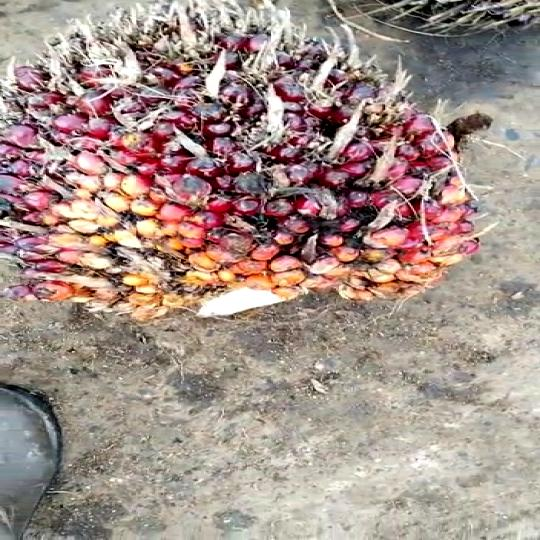masak: (0, 8, 482, 325)
